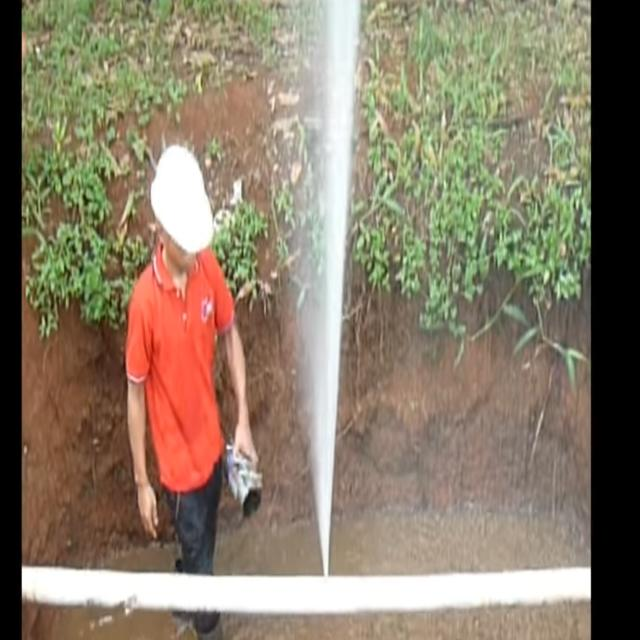leak: (259, 0, 364, 576)
